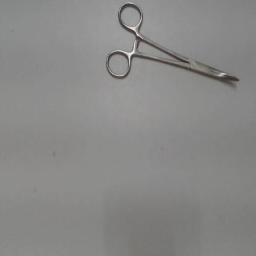Crile Artery Forceps: (104, 1, 244, 89)
